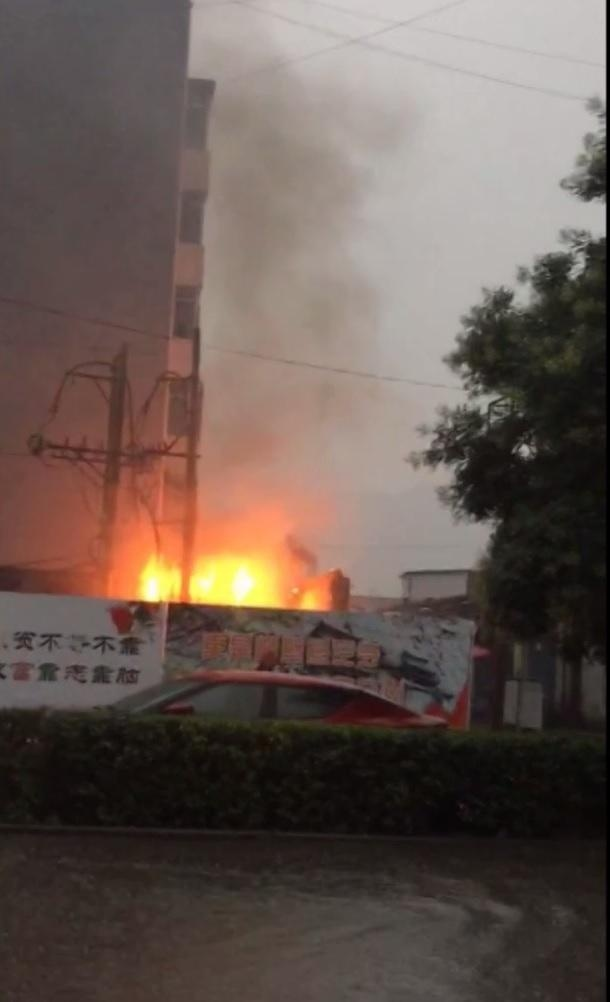fire: (127, 542, 334, 607)
